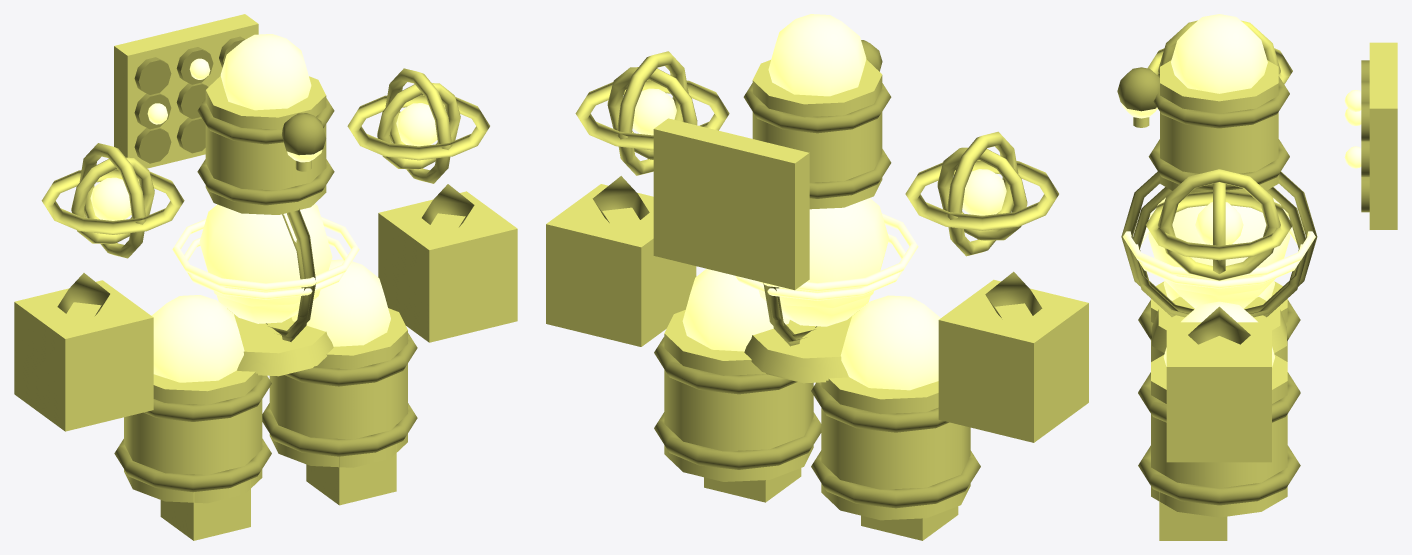
File: golem_104.glb
3 views of the same model, side by side, from view 1: azimuth 30°, elevation 25°; view 2: azimuth 150°, elevation 25°; view 3: azimuth 270°, elevation 25° (orthographic). The views are drawn at different scales.
Parts seen in each view (by area): view 1: Body, Glow, Detail; view 2: Body, Glow, Detail; view 3: Body, Detail, Glow.
Part boxes in pixels (box(x1,y1,x2,y2)): Body: box(14, 14, 517, 540); Glow: box(90, 34, 437, 382); Detail: box(57, 36, 474, 492); Body: box(546, 51, 1088, 540); Glow: box(632, 14, 1006, 390); Detail: box(592, 40, 1042, 508); Body: box(1133, 20, 1397, 540); Detail: box(1117, 60, 1369, 505); Glow: box(1121, 14, 1361, 367).
Bounding box in the file's own units: 1.57 × 1.51 × 0.8145.
